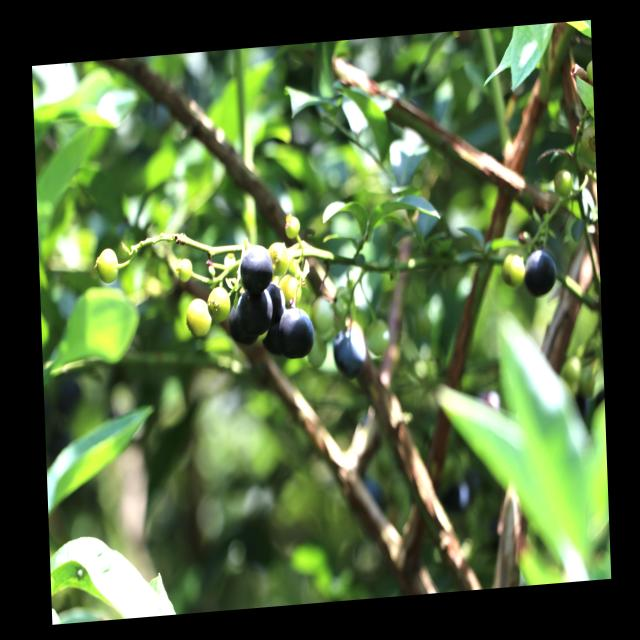blueberry: (278, 307, 318, 361), (236, 242, 273, 295), (331, 327, 367, 379), (524, 248, 557, 296), (236, 289, 273, 331)
blueberry-unripe: (184, 294, 212, 338), (500, 250, 525, 287), (206, 284, 231, 321), (95, 248, 119, 286), (278, 272, 302, 305), (267, 241, 289, 275), (177, 258, 193, 284), (284, 215, 300, 237)
